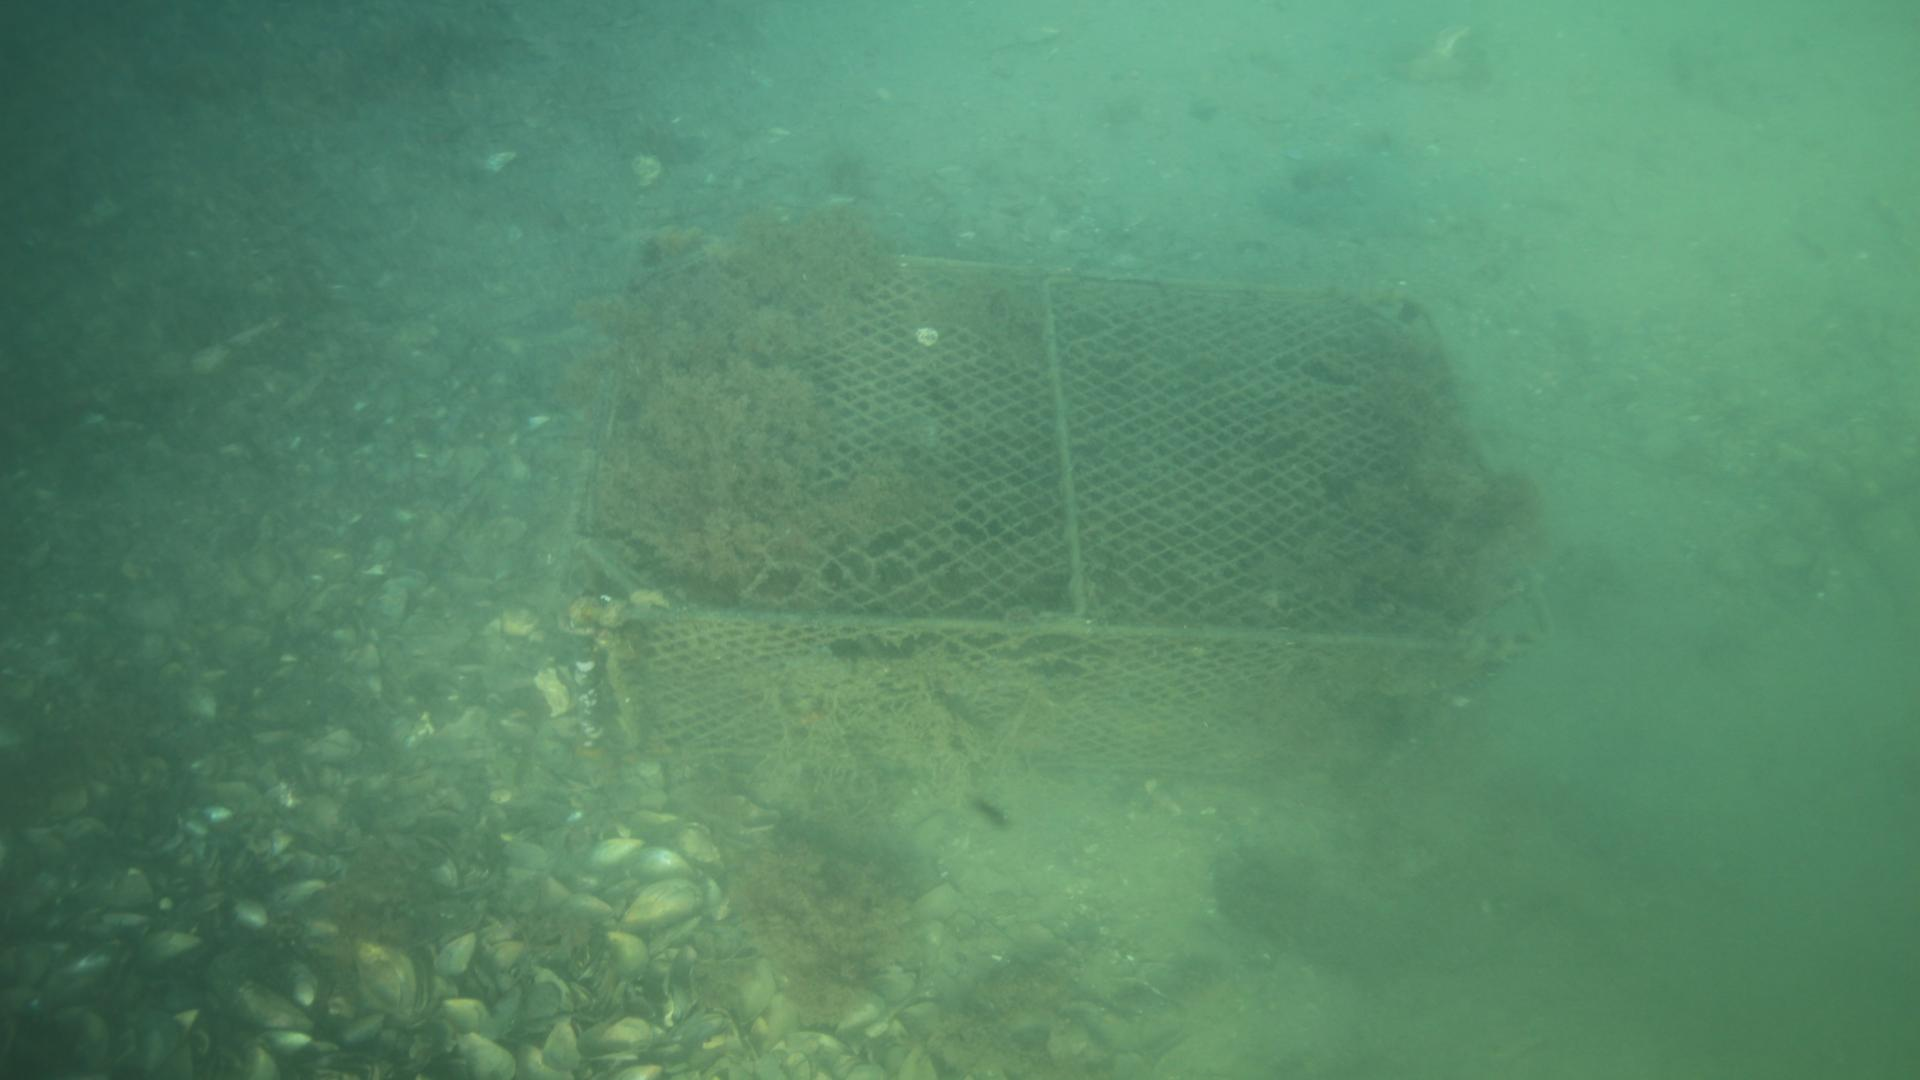rectangular fish trap: (560, 251, 1556, 785)
